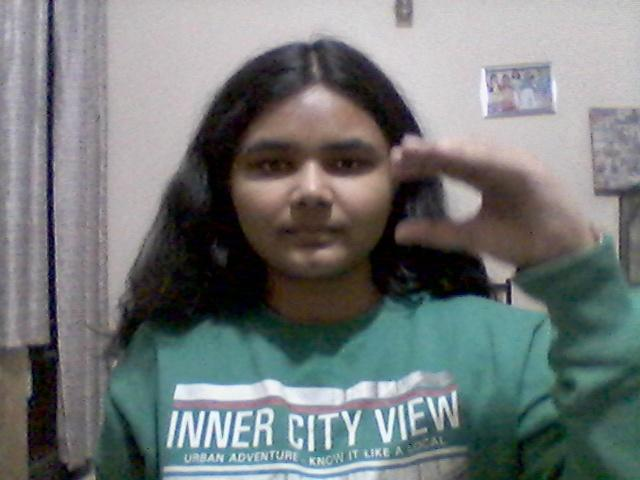no: (384, 133, 606, 286)
